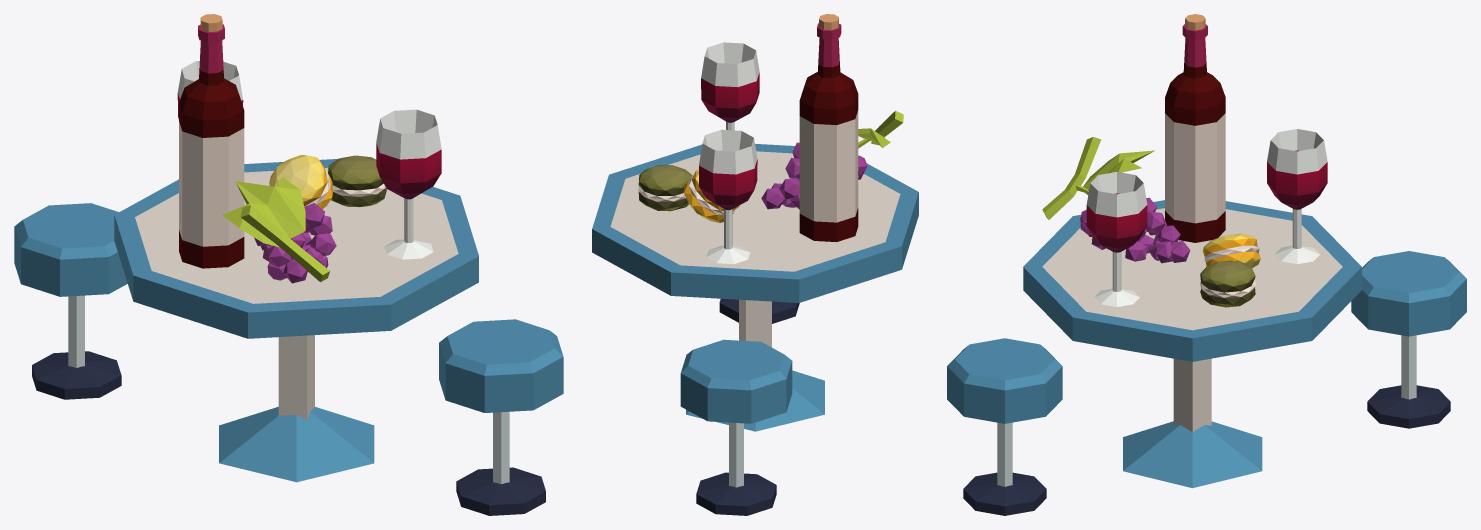
File: tableD.FBX
The picture shows the model from 3 angles, left to right: view 1: azimuth 30°, elevation 25°; view 2: azimuth 150°, elevation 25°; view 3: azimuth 270°, elevation 25°; orthographic projection. The views are drawn at different scales.
Parts seen in each view (by area): view 1: tableD; view 2: tableD; view 3: tableD.
Boxes of the visible parts, bbox=[...] form: tableD: bbox=[14, 14, 563, 515]; tableD: bbox=[592, 14, 918, 515]; tableD: bbox=[947, 14, 1466, 515].
Bounding box in the file's own units: 4.8 × 6.25 × 7.37.
